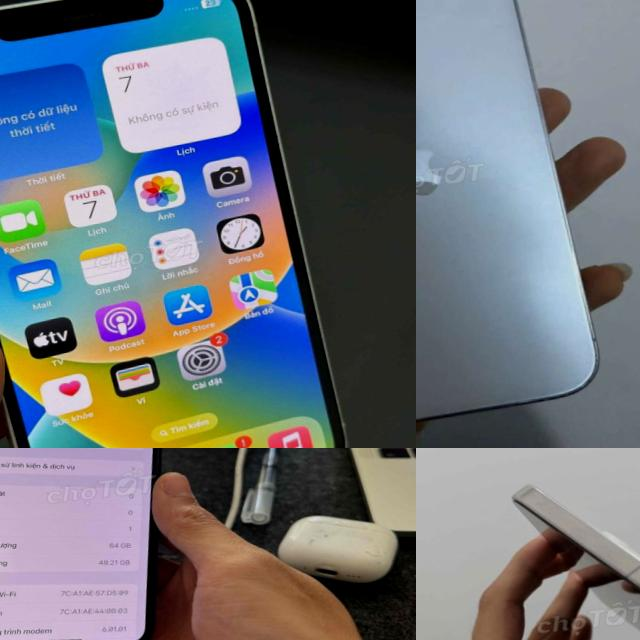gen_11: (0, 448, 160, 640)
gen_12_13: (0, 0, 361, 448)
gen_14: (416, 0, 616, 435)
gen_16: (502, 457, 640, 640)
